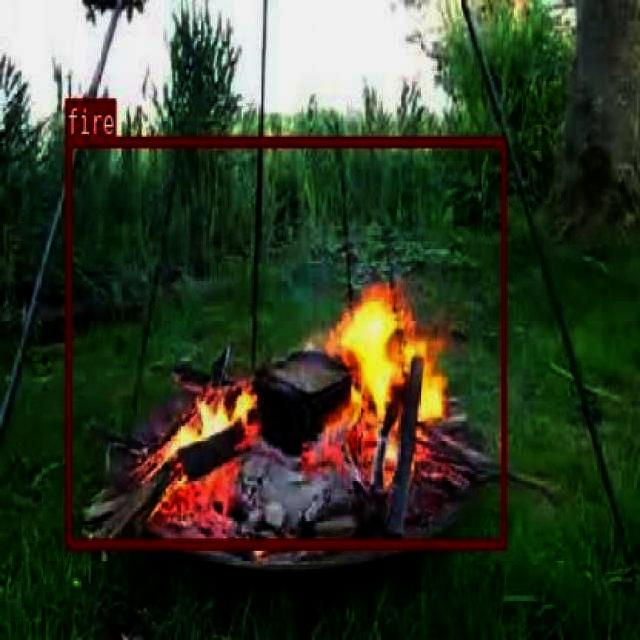fire: (64, 135, 504, 548)
